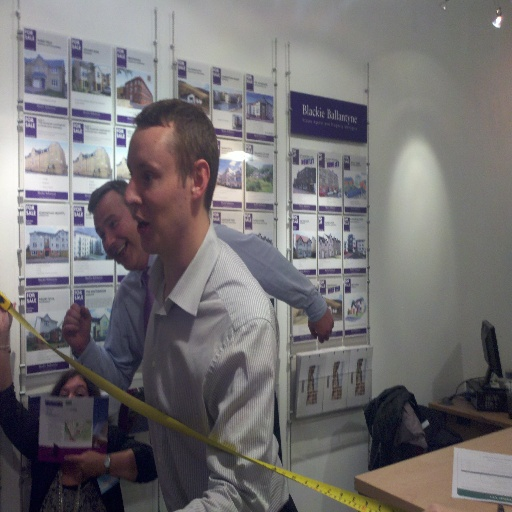hand: (298, 277, 337, 349), (59, 301, 93, 355), (63, 450, 109, 480), (0, 301, 16, 333)
